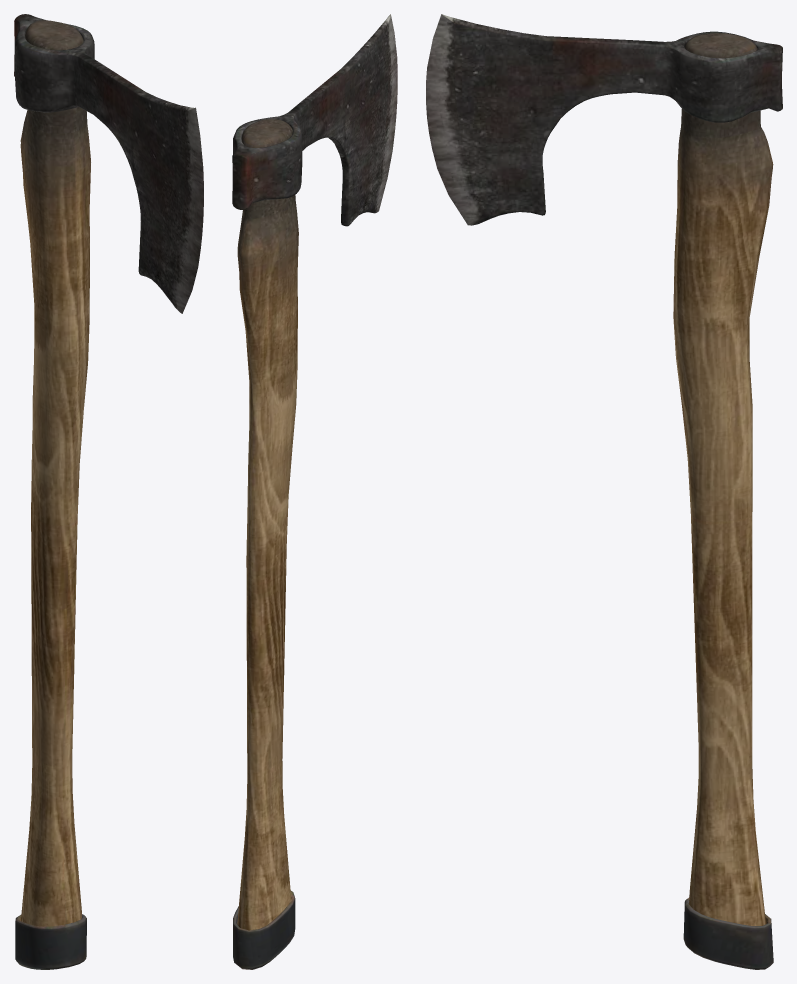
Rendered from wooden_axe.glb.
The picture shows the model from 3 angles, left to right: view 1: azimuth 30°, elevation 25°; view 2: azimuth 150°, elevation 25°; view 3: azimuth 270°, elevation 25°; orthographic projection. The views are drawn at different scales.
Visible parts, largest first — view 1: wooden_axe; view 2: wooden_axe; view 3: wooden_axe.
Part boxes in pixels (bbox=[...]): wooden_axe: bbox=[14, 14, 203, 969]; wooden_axe: bbox=[232, 14, 397, 969]; wooden_axe: bbox=[426, 14, 782, 969].
Size of the model in its own units: 0.0472 by 0.6303 by 0.2143.
1 material, 1 textured.
